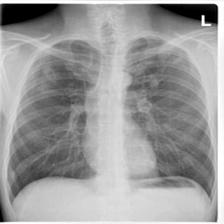tuberculosis: (1, 29, 219, 214)
